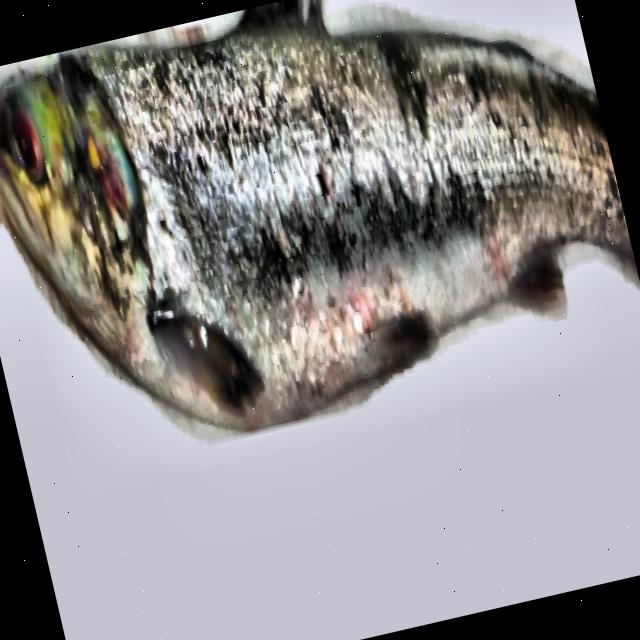mild_red: (93, 25, 631, 387)
